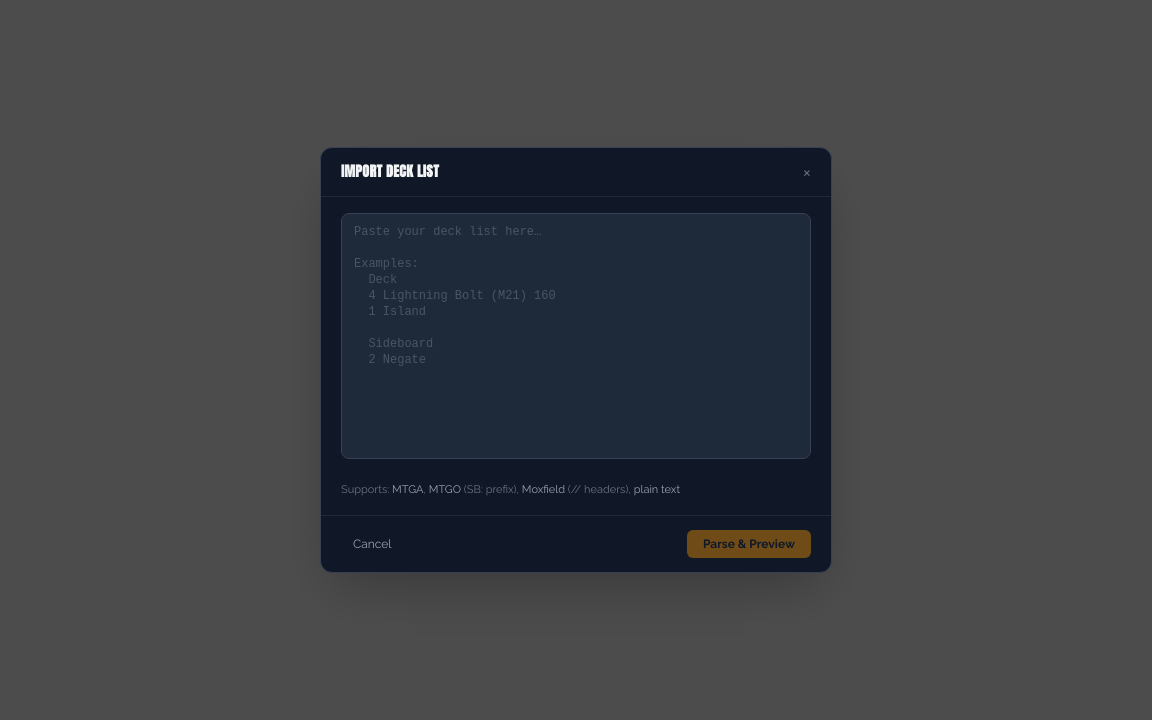
ImportDeckModal — parsing and preview › rejects input with no card lines
Click the text box at (576,336), box [341, 213, 811, 459]
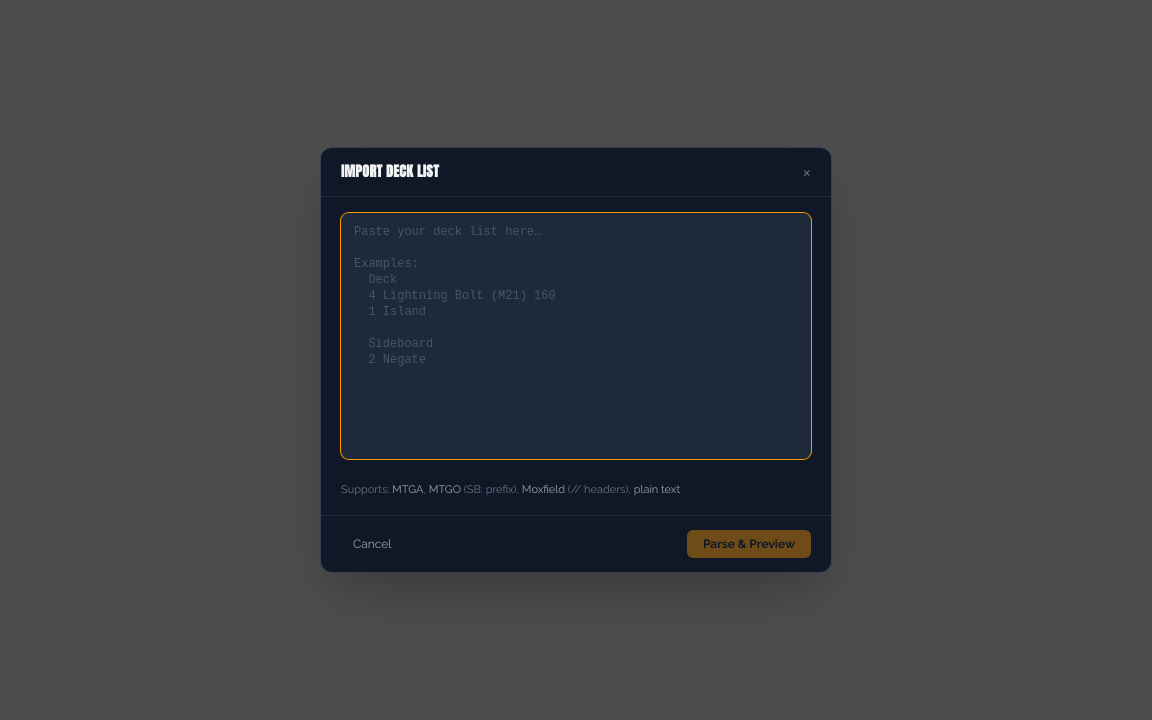
Type keys "// just a comment header"
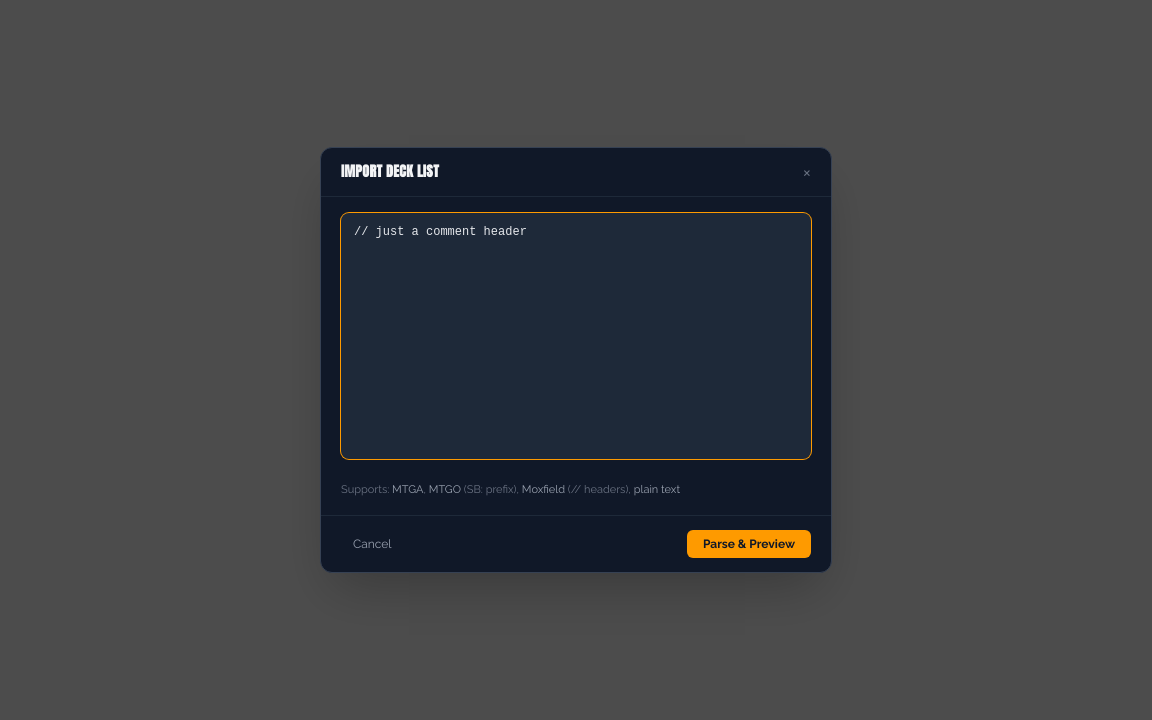
Click the button "Parse & Preview" at (749,544), box [687, 530, 811, 558]
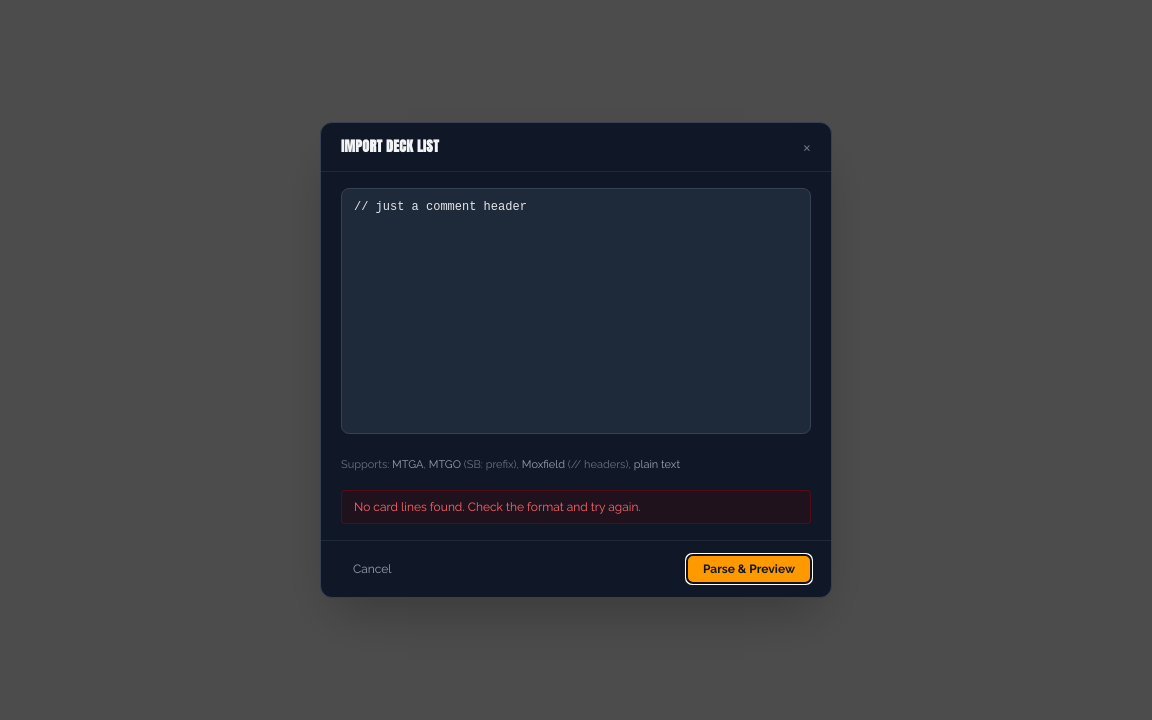
Expected: the text "No card lines found. Check the format and try again." is shown, [341, 490, 811, 524]
